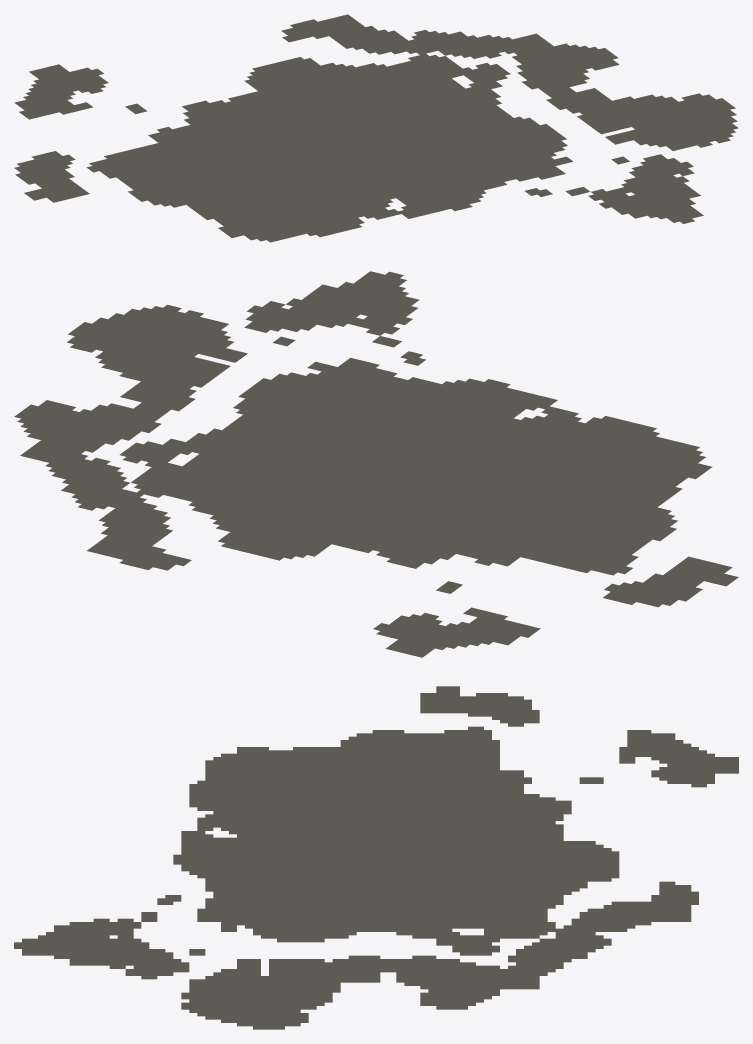
The model's file is Isl-hilly4-NoBuildArea.fbx.
The picture shows the model from 3 angles, top to bottom: view 1: azimuth 30°, elevation 25°; view 2: azimuth 150°, elevation 25°; view 3: azimuth 270°, elevation 25°; orthographic projection. The views are drawn at different scales.
Parts seen in each view (by area): view 1: Isl-hilly4-NoBuildArea; view 2: Isl-hilly4-NoBuildArea; view 3: Isl-hilly4-NoBuildArea.
Part boxes in pixels (bbox=[...]): Isl-hilly4-NoBuildArea: bbox=[14, 14, 738, 242]; Isl-hilly4-NoBuildArea: bbox=[14, 271, 738, 657]; Isl-hilly4-NoBuildArea: bbox=[14, 686, 738, 1029].
Bounding box in the file's own units: 102 × 0 × 91.
